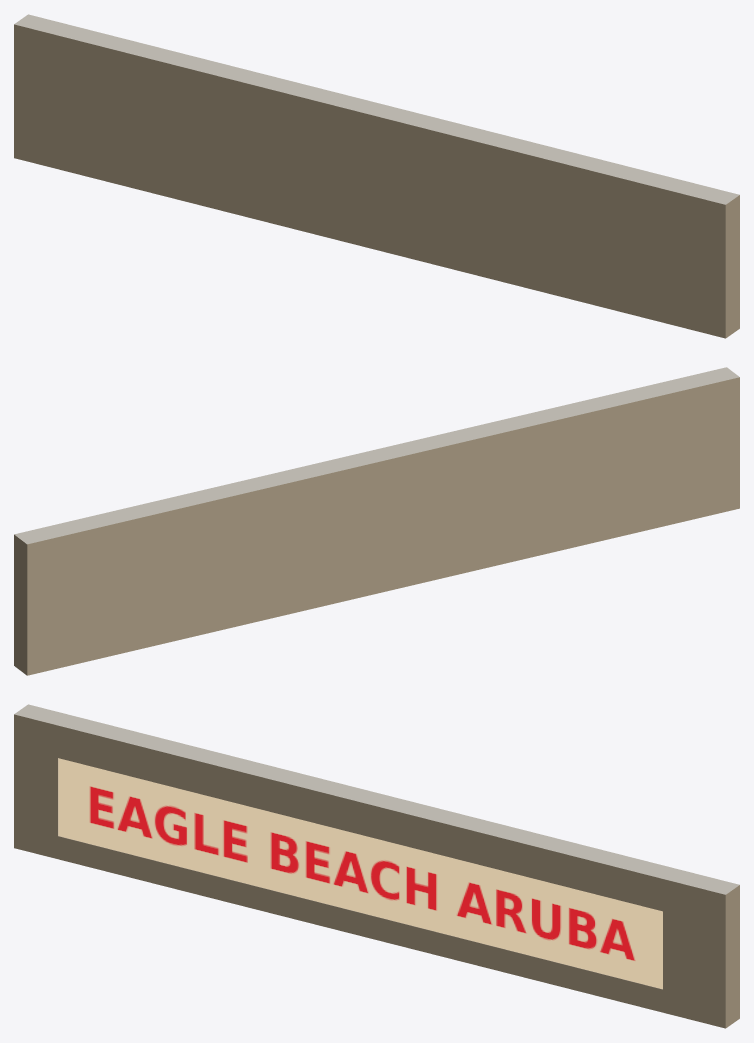
File: eb_wall.glb
3 views of the same model, one above another, from view 1: azimuth 90°, elevation 25°; view 2: azimuth 150°, elevation 25°; view 3: azimuth 270°, elevation 25° (orthographic).
Visible parts, largest first — view 1: eb_wall_lod0; view 2: eb_wall_lod0; view 3: eb_wall_lod0.
Boxes of the visible parts, x1,y1,x2,y2 form: eb_wall_lod0: (14,14,739,338); eb_wall_lod0: (14,367,739,675); eb_wall_lod0: (14,704,739,1028).
Size of what is drawn, in the model's own units: 4.89 by 1.6 by 7.87.
Materials: 3 (1 with a texture image).
